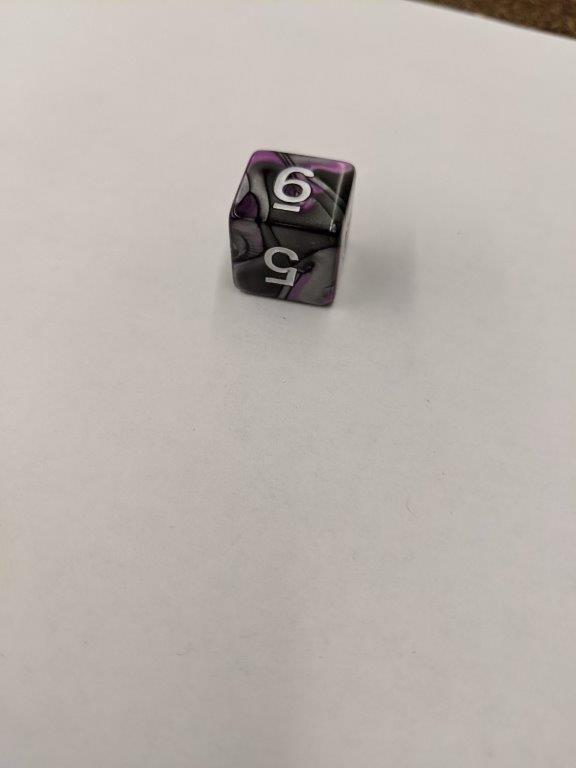d6-6: (230, 148, 356, 311)
